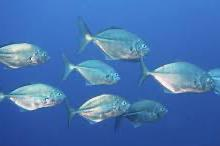Carangidae -Jacks-: (68, 0, 150, 63), (132, 50, 217, 96), (0, 75, 66, 117), (55, 47, 119, 89), (65, 90, 129, 129), (0, 35, 51, 71)
